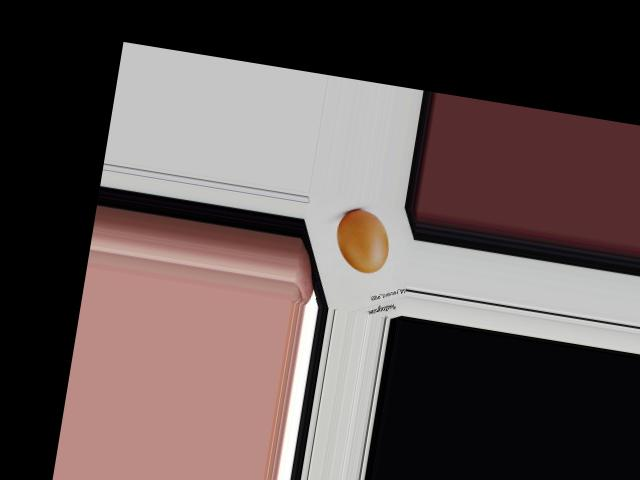egg: (331, 206, 393, 275)
